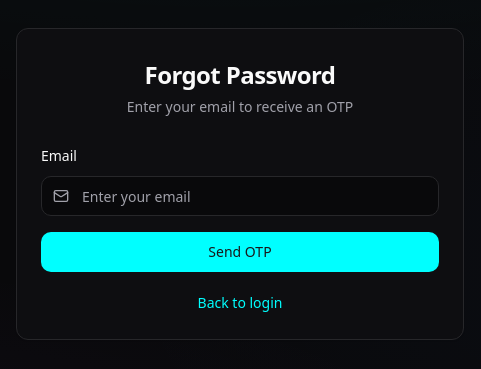
Test: ForgotPassword › forwards the resetToken issued by the OTP step
Later steps or results of the test are not shown.
In the field: [240, 196] box [41, 176, 439, 216], type "buyer@example.com"
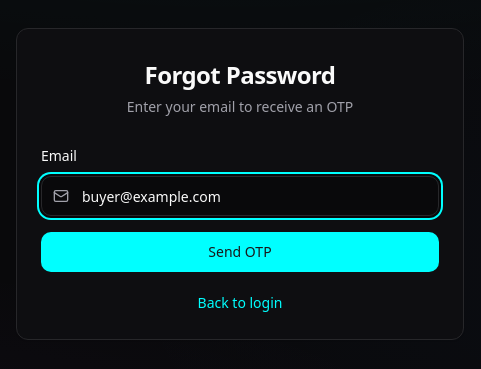
Click the button "Send OTP": [240, 252] box [41, 232, 439, 272]
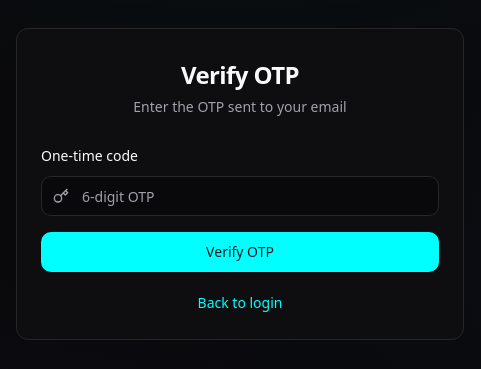
In the field: [240, 196] box [41, 176, 439, 216], type "123456"
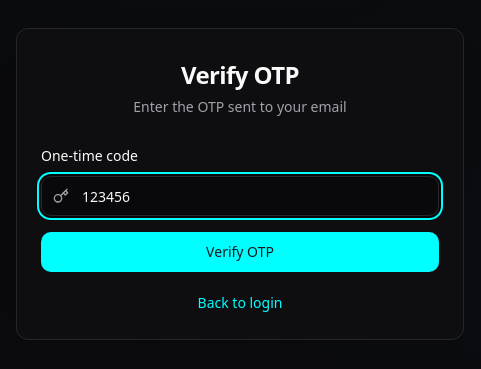
Click the button "Verify OTP": [240, 252] box [41, 232, 439, 272]
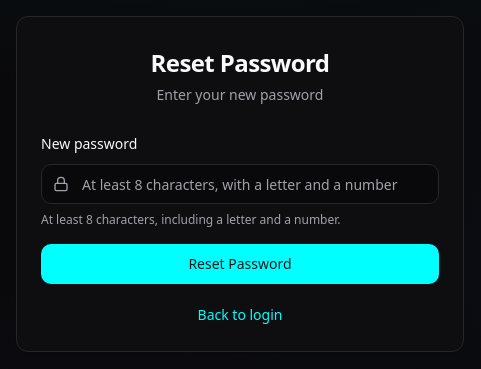
Expected: the password field labelled "New password" is shown, [41, 164, 439, 204]
